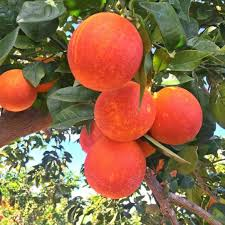orange: (62, 17, 147, 94), (92, 81, 158, 142), (82, 137, 148, 197), (153, 83, 202, 149), (1, 66, 37, 112)
